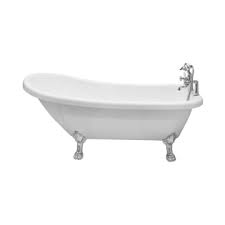bathub: (20, 61, 202, 164)
